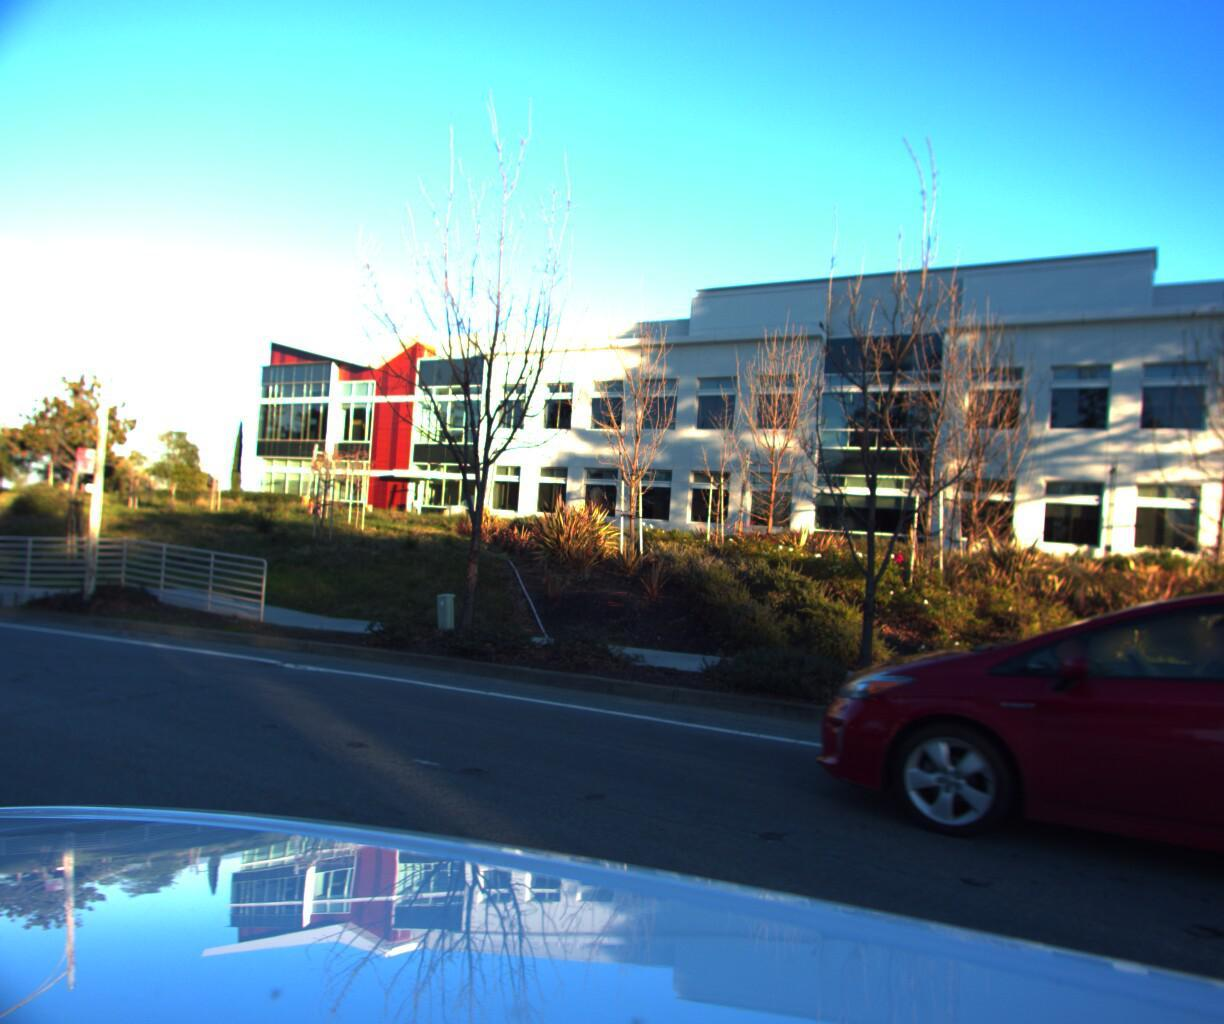car: (809, 556, 1224, 1024)
